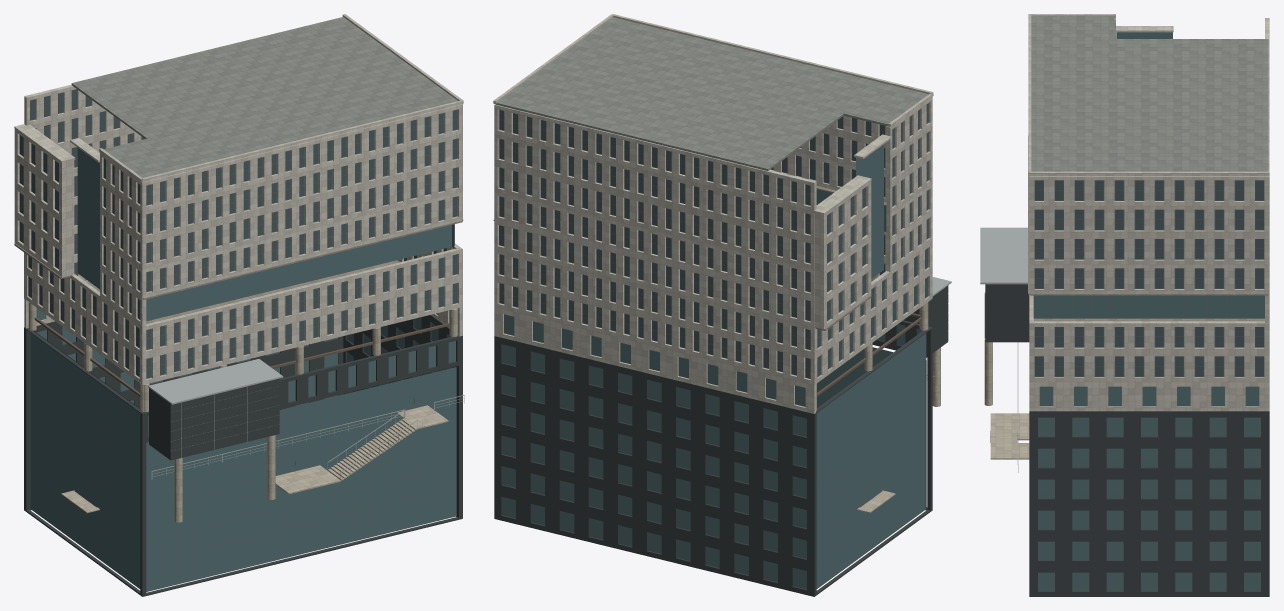
3 views of the same model, side by side, from view 1: azimuth 30°, elevation 25°; view 2: azimuth 150°, elevation 25°; view 3: azimuth 270°, elevation 25° (orthographic).
Visible parts, largest first — view 1: sangsang__glass, sangsang__pale, sangsang__roof, sangsang__dark, sangsang__slotglass, sangsang__frame, sangsang__seam, sangsang__stone, sangsang__soffit, sangsang__stair-west-entry, sangsang__rail, sangsang__threshold-west (+2 smaller); view 2: sangsang__pale, sangsang__dark, sangsang__glass, sangsang__roof, sangsang__slotglass, sangsang__frame, sangsang__stone; view 3: sangsang__pale, sangsang__dark, sangsang__roof, sangsang__glass, sangsang__slotglass, sangsang__frame, sangsang__seam, sangsang__soffit, sangsang__threshold-west, sangsang__threshold-west-upper, sangsang__stone.
Boxes of the visible parts, x1=… form: sangsang__glass: x1=31, y1=148, x2=455, y2=591; sangsang__pale: x1=14, y1=14, x2=463, y2=384; sangsang__roof: x1=71, y1=17, x2=457, y2=177; sangsang__dark: x1=24, y1=315, x2=462, y2=596; sangsang__slotglass: x1=19, y1=89, x2=457, y2=378; sangsang__frame: x1=19, y1=110, x2=457, y2=591; sangsang__seam: x1=148, y1=359, x2=283, y2=457; sangsang__stone: x1=28, y1=302, x2=457, y2=522; sangsang__soffit: x1=14, y1=219, x2=463, y2=323; sangsang__stair-west-entry: x1=327, y1=418, x2=417, y2=480; sangsang__rail: x1=151, y1=395, x2=464, y2=480; sangsang__threshold-west: x1=275, y1=465, x2=340, y2=494; sangsang__pale: x1=493, y1=14, x2=933, y2=413; sangsang__dark: x1=494, y1=285, x2=948, y2=596; sangsang__glass: x1=503, y1=144, x2=926, y2=588; sangsang__roof: x1=496, y1=17, x2=928, y2=170; sangsang__slotglass: x1=499, y1=103, x2=928, y2=378; sangsang__frame: x1=499, y1=103, x2=928, y2=589; sangsang__stone: x1=816, y1=302, x2=940, y2=410; sangsang__pale: x1=1028, y1=14, x2=1269, y2=411; sangsang__dark: x1=985, y1=284, x2=1269, y2=596; sangsang__roof: x1=1031, y1=16, x2=1268, y2=171; sangsang__glass: x1=1034, y1=32, x2=1264, y2=590; sangsang__slotglass: x1=1035, y1=180, x2=1263, y2=376; sangsang__frame: x1=1033, y1=180, x2=1264, y2=591; sangsang__seam: x1=980, y1=227, x2=1027, y2=284; sangsang__soffit: x1=1028, y1=136, x2=1268, y2=321; sangsang__threshold-west: x1=990, y1=413, x2=1029, y2=440; sangsang__threshold-west-upper: x1=990, y1=443, x2=1029, y2=459; sangsang__stone: x1=984, y1=292, x2=992, y2=405.
Size of the model in its own units: 43.27 by 52.08 by 32.21.
Materials: 11 (4 with a texture image).
